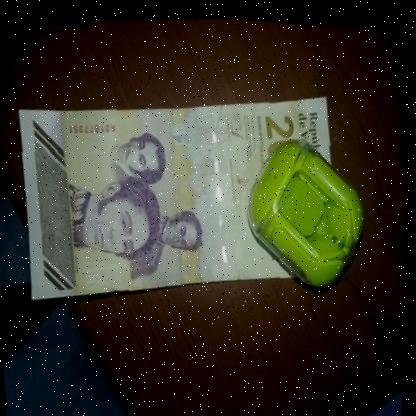two_hundred-front-vef: (12, 69, 348, 318)
